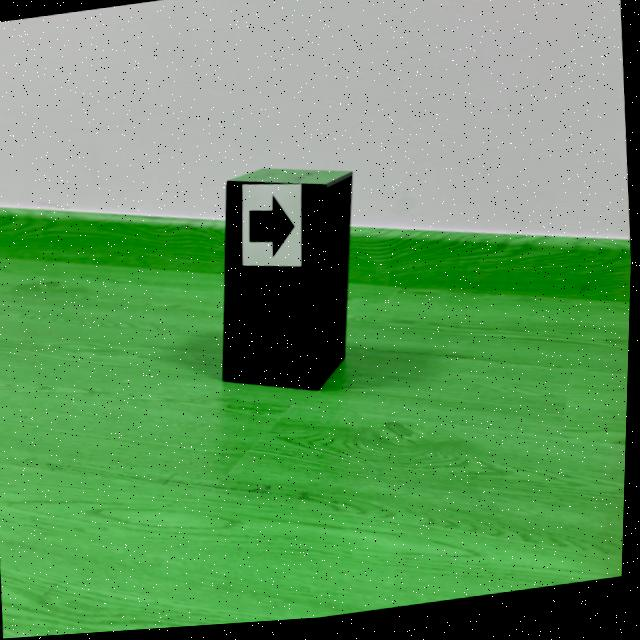RIGHT: (250, 200, 295, 260)
